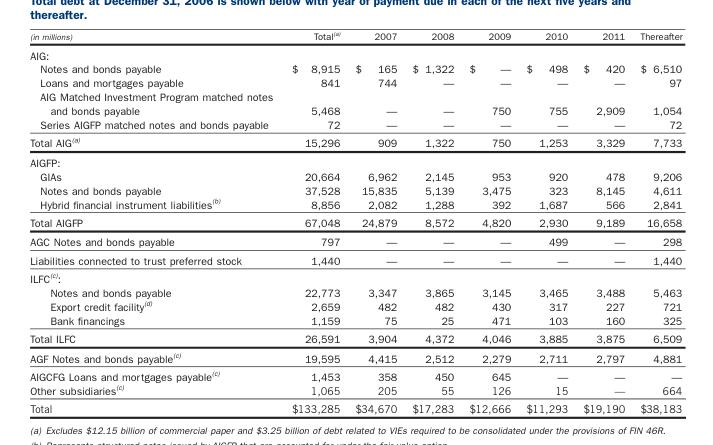table: (29, 29, 681, 414)
table column: (29, 29, 281, 414), (281, 29, 346, 414), (346, 29, 403, 414), (403, 29, 460, 414), (460, 29, 517, 414), (517, 29, 574, 414), (574, 29, 631, 414), (631, 29, 681, 414)
table column header: (29, 29, 681, 44)
table projected row header: (29, 44, 681, 61), (29, 268, 681, 285), (29, 152, 681, 168)
table row: (29, 89, 681, 117), (29, 132, 681, 152), (29, 212, 681, 231), (29, 231, 681, 250), (29, 328, 681, 347), (29, 347, 681, 366), (29, 250, 681, 268), (29, 44, 681, 61), (29, 268, 681, 285), (29, 152, 681, 168), (29, 196, 681, 212), (29, 312, 681, 328), (29, 366, 681, 382), (29, 382, 681, 398), (29, 398, 681, 414), (29, 29, 681, 44), (29, 117, 681, 132), (29, 61, 681, 75), (29, 75, 681, 89), (29, 168, 681, 182), (29, 182, 681, 196), (29, 298, 681, 312), (29, 285, 681, 298)
